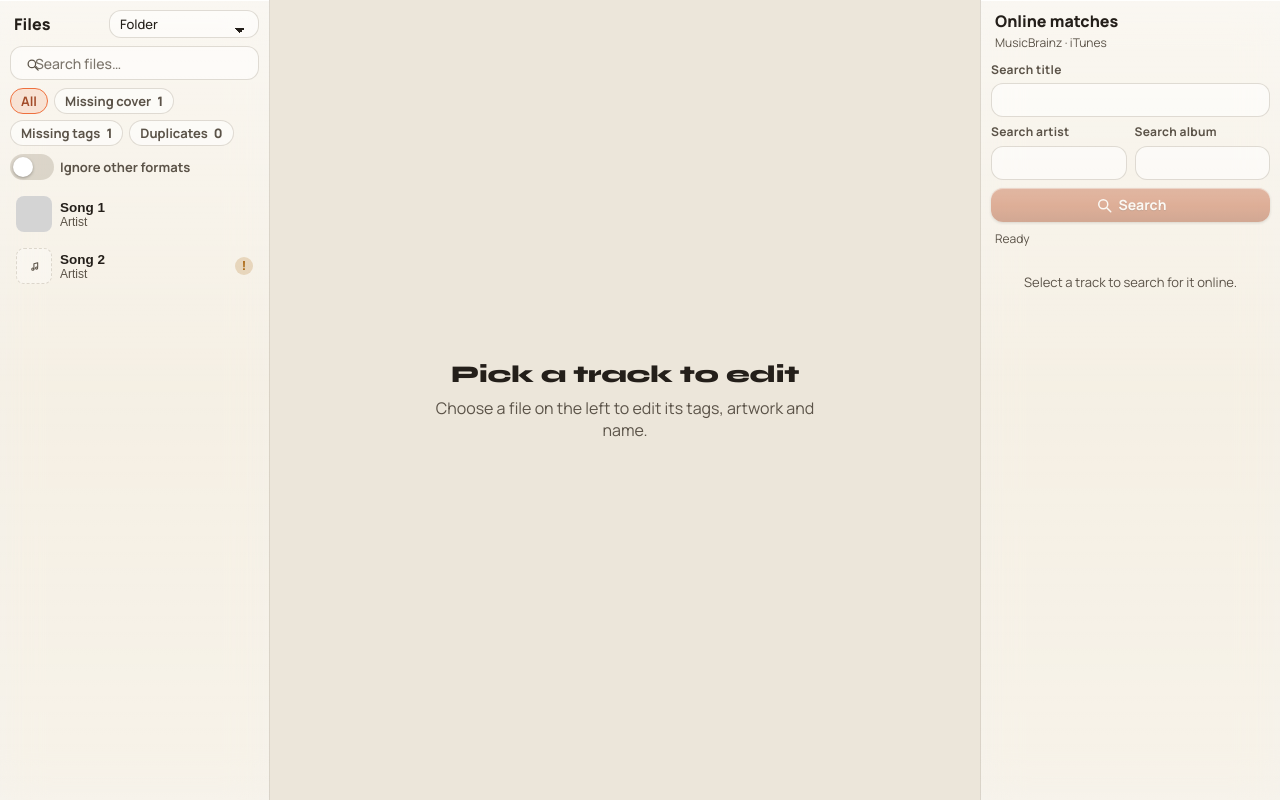
TagEditorScreen › searches the files by title, artist, album or file name
The image size is (1280, 800).
Type "song 1" into the search field labelled "Search files".
click(134, 63); type("song 1")  # box [10,46,259,80]
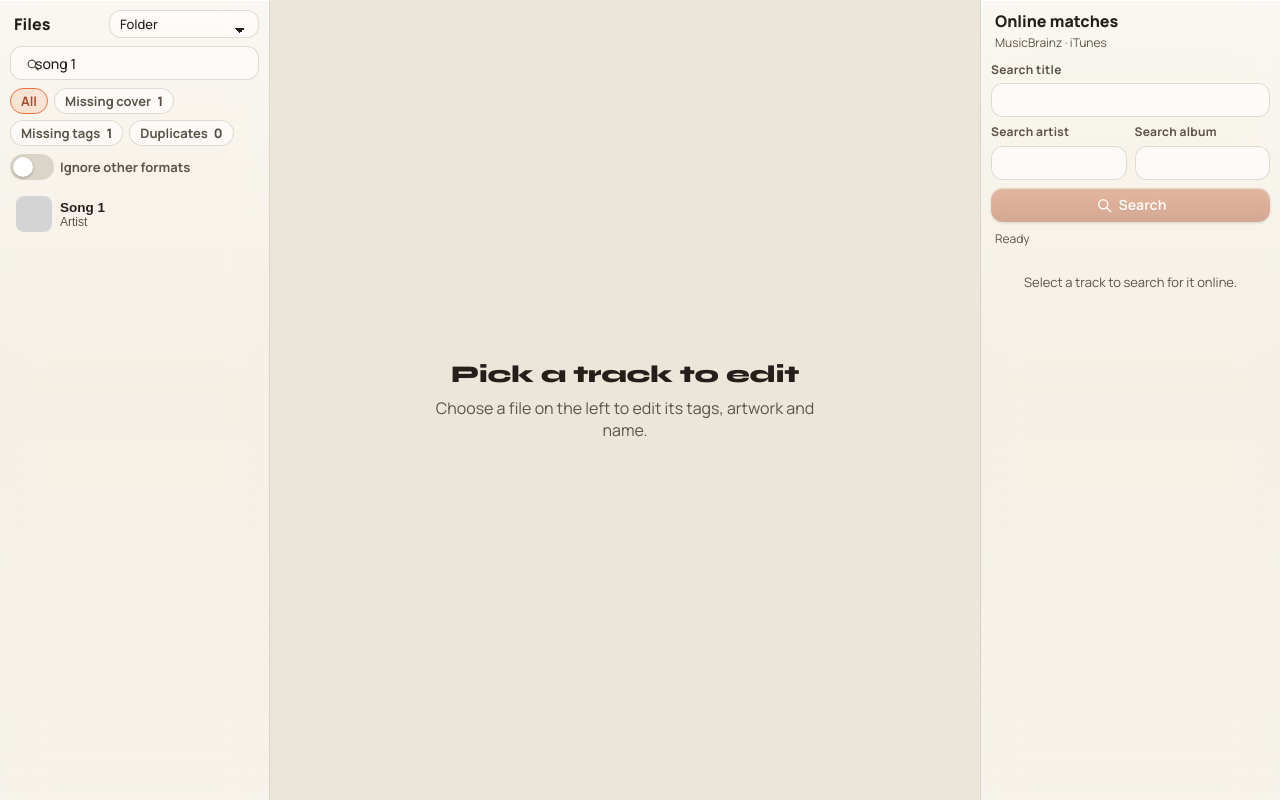
Replace the text in the search field named "Search files" with "nothing like this" at (134, 63), box [10,46,259,80]
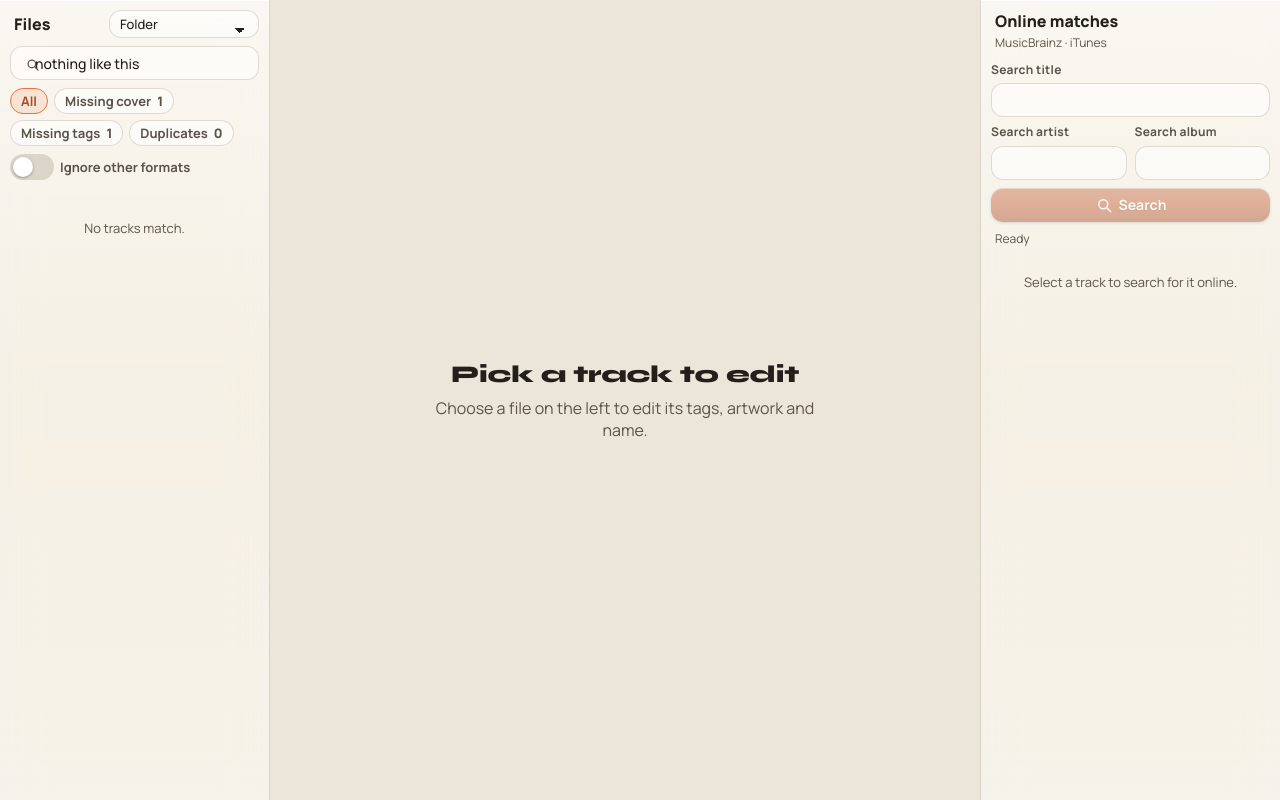
Expected: the text "No tracks match." is shown, [84,219,185,237]
